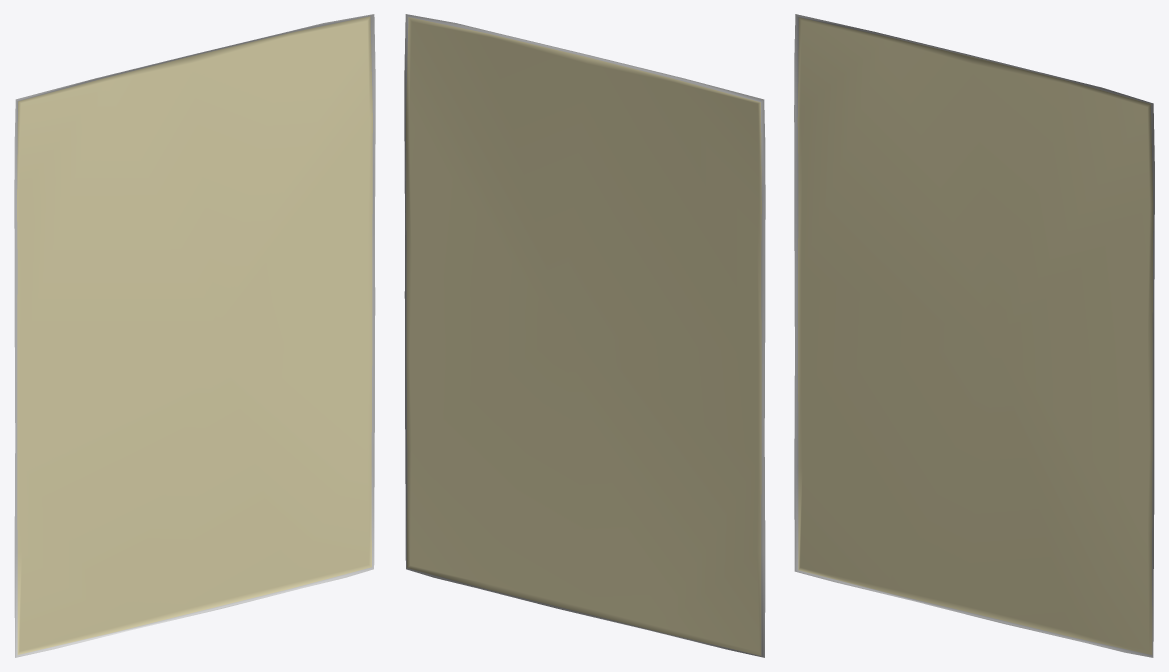
Rendered from ui_inset_lg_2x3.glb.
3 renders of one model, left to right at view 1: azimuth 30°, elevation 25°; view 2: azimuth 150°, elevation 25°; view 3: azimuth 330°, elevation 25°, orthographic.
Parts seen in each view (by area): view 1: Cube; view 2: Cube; view 3: Cube.
Boxes of the visible parts, x1,y1,x2,y2 form: Cube: [14, 14, 375, 657]; Cube: [404, 14, 765, 657]; Cube: [794, 14, 1154, 657].
Bounding box in the file's own units: 1.34 × 1.99 × 0.00385.
